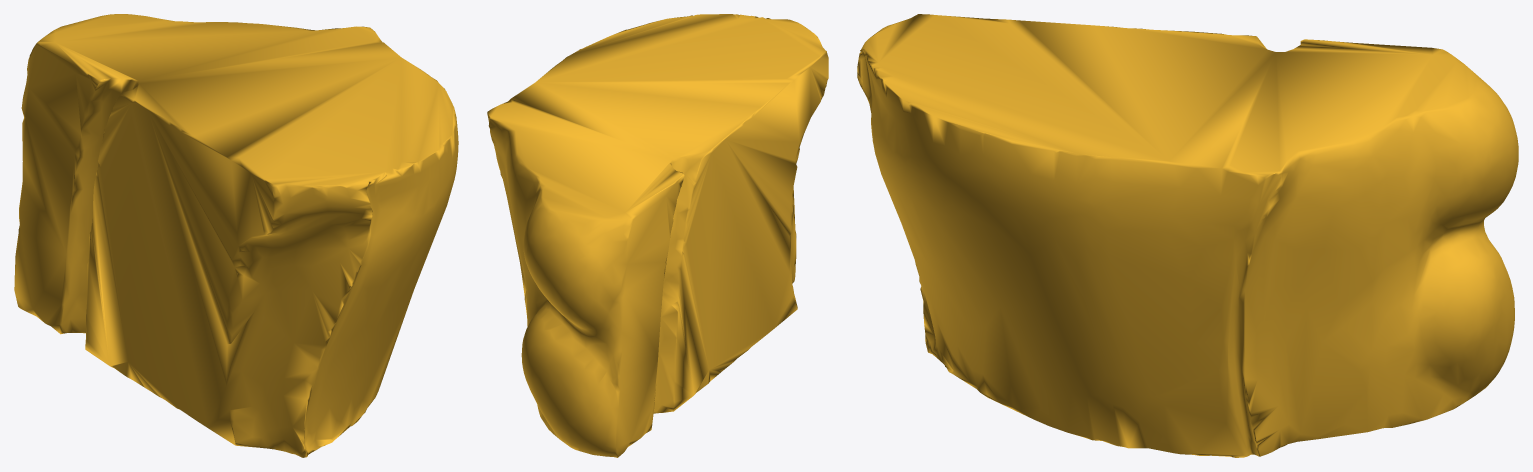
File: nervoso-midbrain-l.glb
3 views of the same model, side by side, from view 1: azimuth 30°, elevation 25°; view 2: azimuth 150°, elevation 25°; view 3: azimuth 270°, elevation 25° (orthographic). The views are drawn at different scales.
Parts seen in each view (by area): view 1: Midbrain.l; view 2: Midbrain.l; view 3: Midbrain.l.
Part boxes in pixels (<box>): Midbrain.l: <box>14,14,458,457</box>; Midbrain.l: <box>487,14,828,457</box>; Midbrain.l: <box>857,14,1518,457</box>.
Size of the model in its own units: 0.0143 by 0.0165 by 0.0285.
